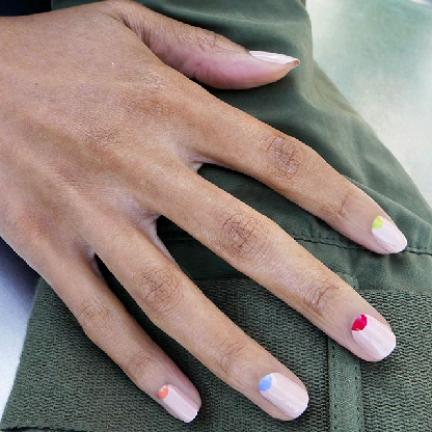Nail: (259, 373, 309, 419), (350, 313, 396, 360), (157, 384, 199, 423), (371, 216, 408, 253), (249, 51, 299, 64)
